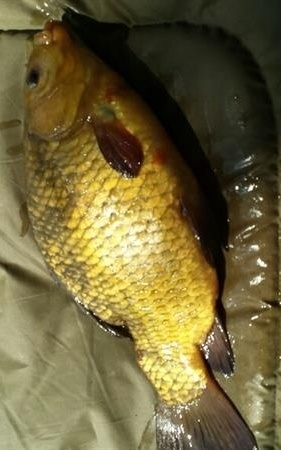Carassius carassius: (20, 20, 261, 450)
